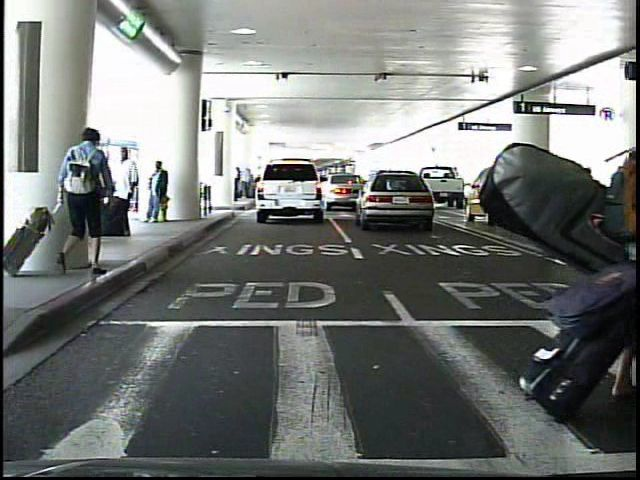person: (60, 126, 109, 278), (113, 146, 136, 239), (145, 162, 172, 229), (567, 165, 583, 213), (582, 167, 596, 211)
